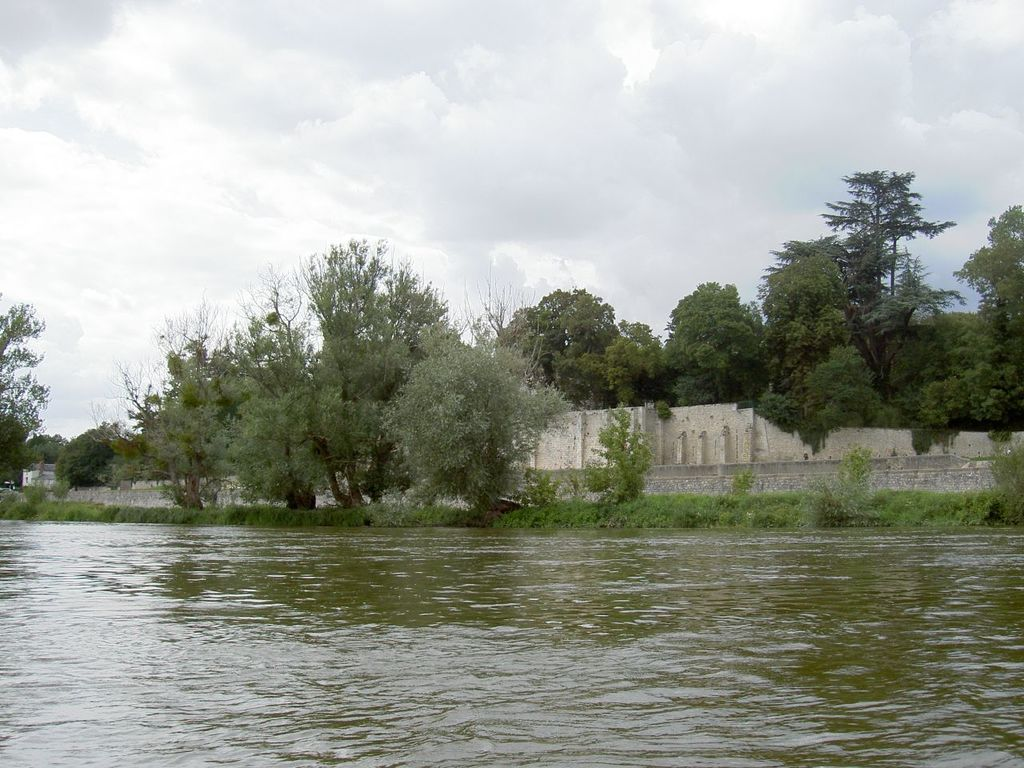Tree: (0, 170, 1023, 510)
